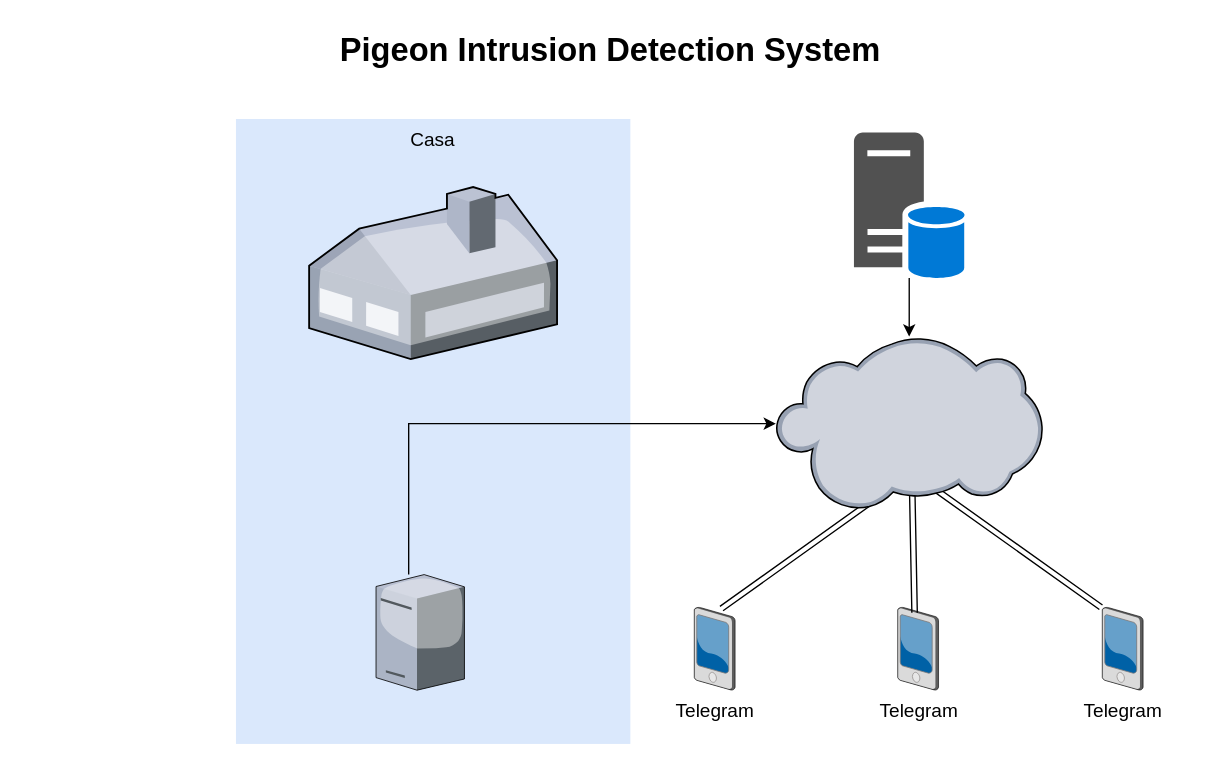
This 1217x767 diagram has some shape labels left out. Each missing label, with the centre of its shape:
Raspberry PI: the point at 419,632
Web Services: the point at 908,204
